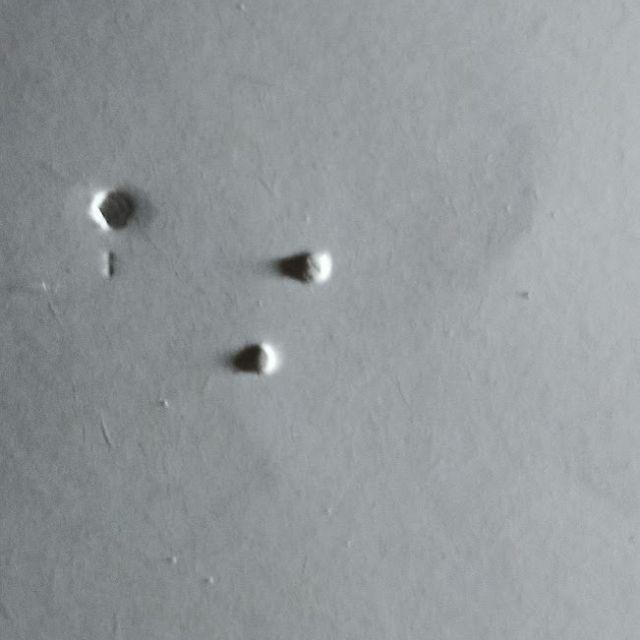ibig: (237, 252, 332, 374)
